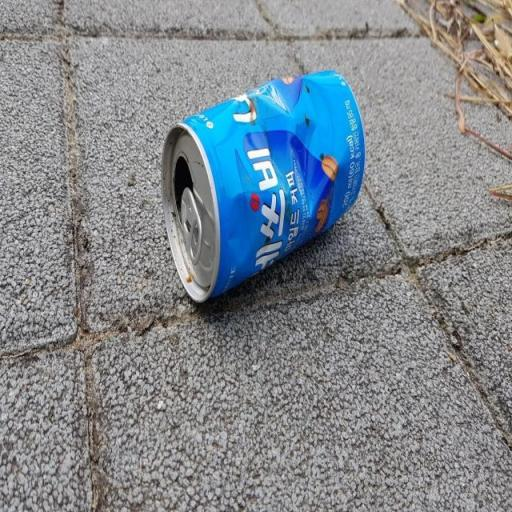metal: (138, 44, 382, 340)
